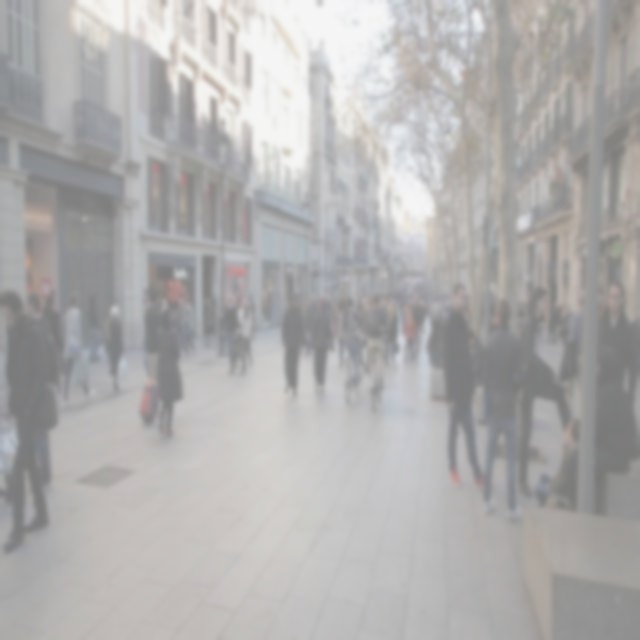pessoa: (0, 290, 49, 554), (516, 285, 572, 499), (481, 296, 524, 526), (440, 281, 486, 488), (24, 292, 59, 494), (594, 360, 639, 476), (596, 278, 638, 401), (532, 416, 580, 515), (61, 289, 97, 408), (154, 305, 184, 439), (566, 289, 586, 422), (280, 290, 305, 396), (144, 286, 163, 418), (310, 296, 334, 395), (343, 296, 366, 398), (366, 290, 388, 394), (0, 340, 11, 504), (42, 293, 66, 363), (220, 292, 239, 375), (108, 304, 124, 392), (354, 297, 372, 373), (138, 286, 152, 381), (233, 298, 250, 376), (160, 298, 185, 350), (332, 296, 348, 368), (426, 317, 441, 387), (88, 289, 101, 363), (180, 296, 196, 356), (554, 301, 576, 343), (103, 308, 116, 376), (412, 293, 424, 363), (545, 158, 566, 198), (393, 292, 412, 336), (403, 306, 417, 364), (388, 297, 399, 364), (430, 294, 443, 350), (292, 296, 304, 356), (303, 296, 315, 356), (242, 298, 252, 366), (462, 274, 474, 330), (596, 284, 608, 338), (400, 301, 410, 364), (416, 292, 433, 328), (206, 298, 217, 350), (545, 300, 557, 344), (392, 278, 428, 292), (381, 289, 390, 344), (202, 296, 211, 350), (516, 296, 528, 335), (294, 292, 320, 310), (490, 290, 499, 336), (537, 304, 546, 343), (248, 294, 255, 342), (46, 286, 60, 310), (467, 328, 476, 361), (232, 276, 240, 308), (444, 286, 452, 318), (327, 298, 336, 326), (262, 288, 268, 320), (480, 285, 484, 327), (354, 294, 362, 314), (387, 289, 392, 303), (378, 292, 382, 307)
